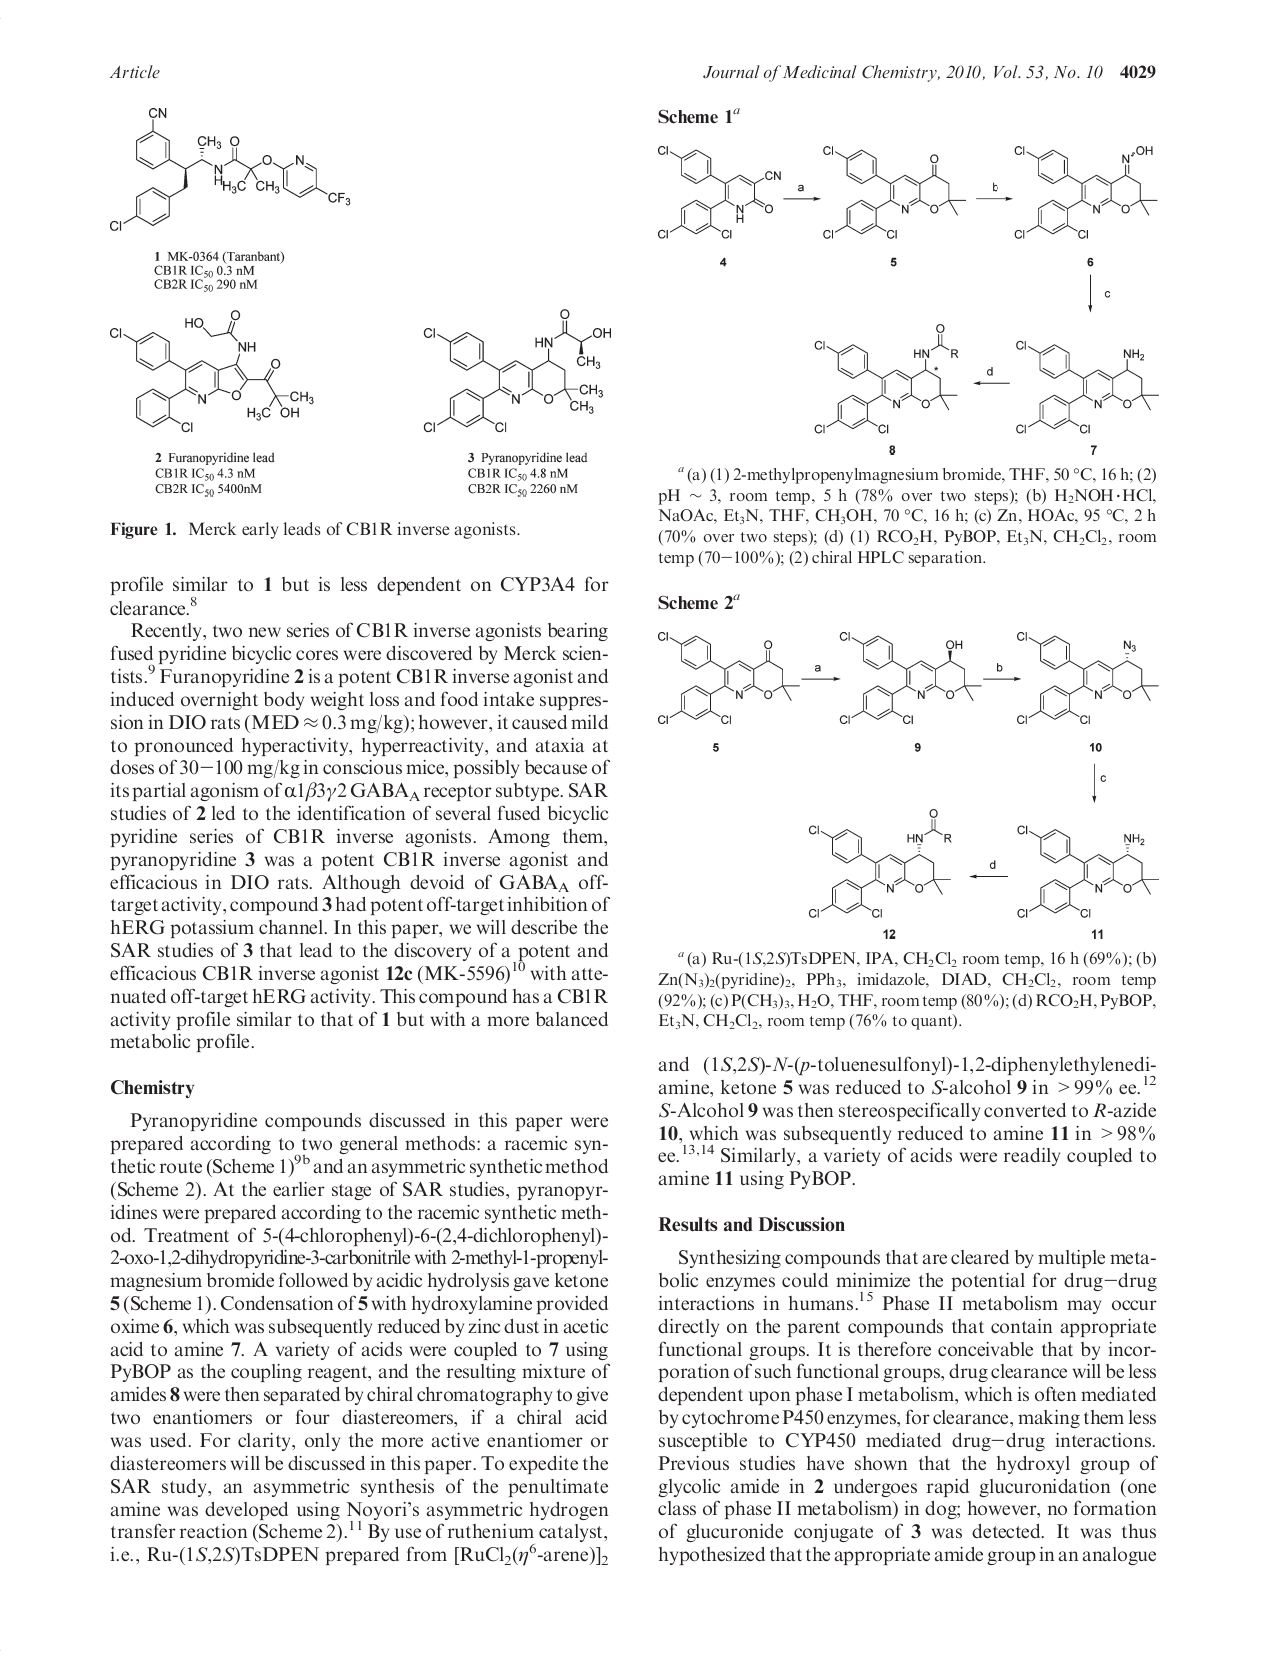exist_molecular: (102, 104, 352, 235), (108, 305, 316, 435), (414, 307, 614, 438), (807, 318, 964, 440), (801, 806, 957, 920), (817, 138, 973, 243), (1009, 813, 1160, 920), (1011, 138, 1160, 243), (656, 624, 805, 727), (1012, 334, 1162, 435), (835, 626, 984, 727), (1015, 625, 1161, 727), (645, 137, 785, 243)
